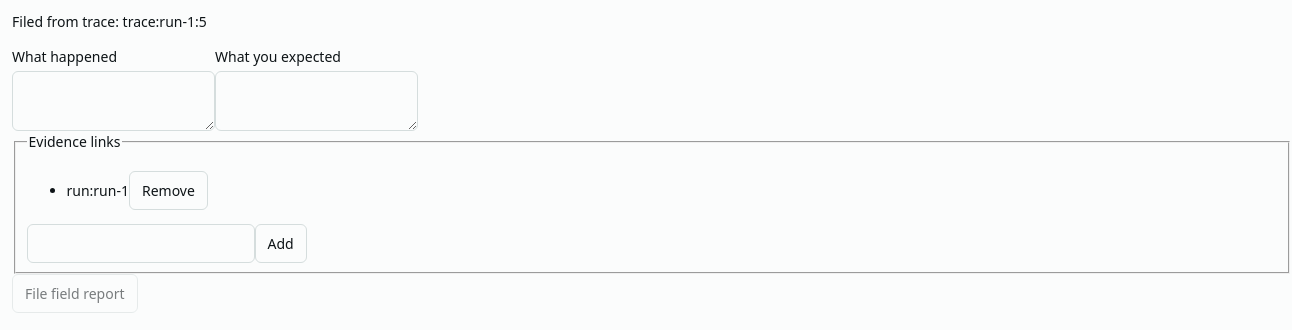
FieldReportForm › disables submit until both narrative fields are non-blank
Expected: the button "File field report" is disabled, top-left (12, 274), bottom-right (138, 313)
In the text box labelled "What happened": (114, 101) top-left (12, 71), bottom-right (215, 131), type "It broke."
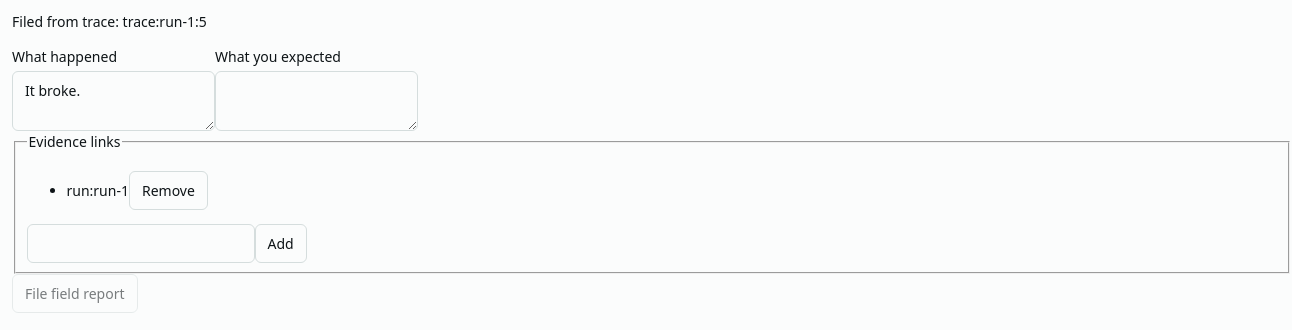
Expected: the button "File field report" is disabled, top-left (12, 274), bottom-right (138, 313)
In the text box labelled "What you expected": (316, 101) top-left (215, 71), bottom-right (418, 131), type "It should not break."
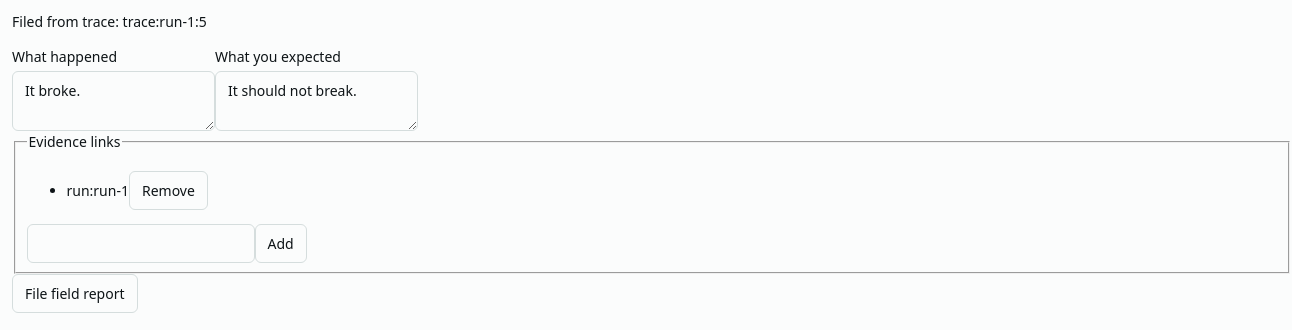
Expected: the button "File field report" is enabled, top-left (12, 274), bottom-right (138, 313)
